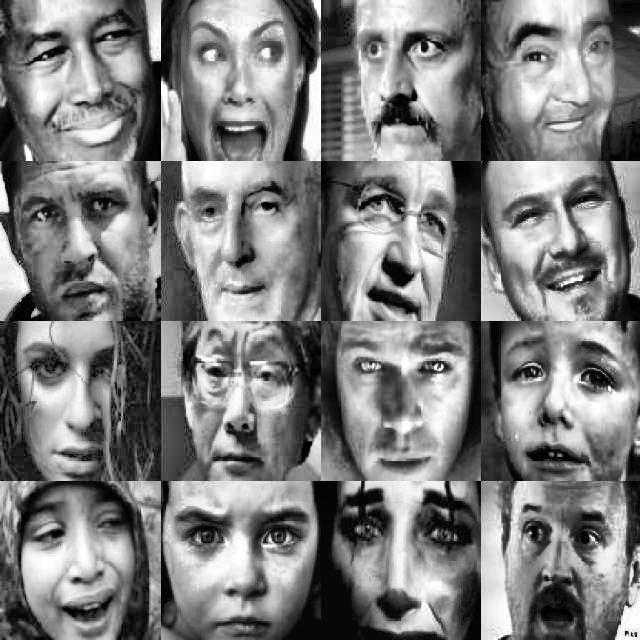fear: (337, 488, 468, 632), (356, 11, 462, 171), (505, 500, 621, 612)
happy: (166, 9, 328, 137), (496, 170, 620, 314), (497, 20, 615, 146), (25, 25, 145, 147)
neutral: (185, 181, 305, 337), (188, 351, 308, 487), (193, 501, 322, 618), (347, 340, 469, 463), (29, 184, 137, 321), (346, 192, 462, 316), (29, 342, 138, 465)
sad: (26, 495, 146, 609), (509, 342, 617, 464)
